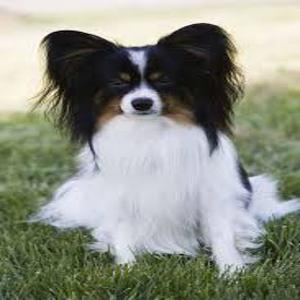yell: (30, 24, 299, 278)
